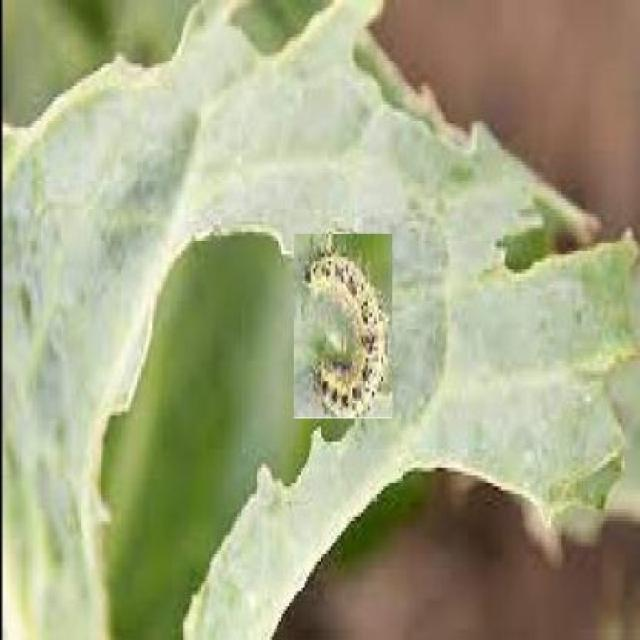Plaga: (293, 234, 395, 420)
